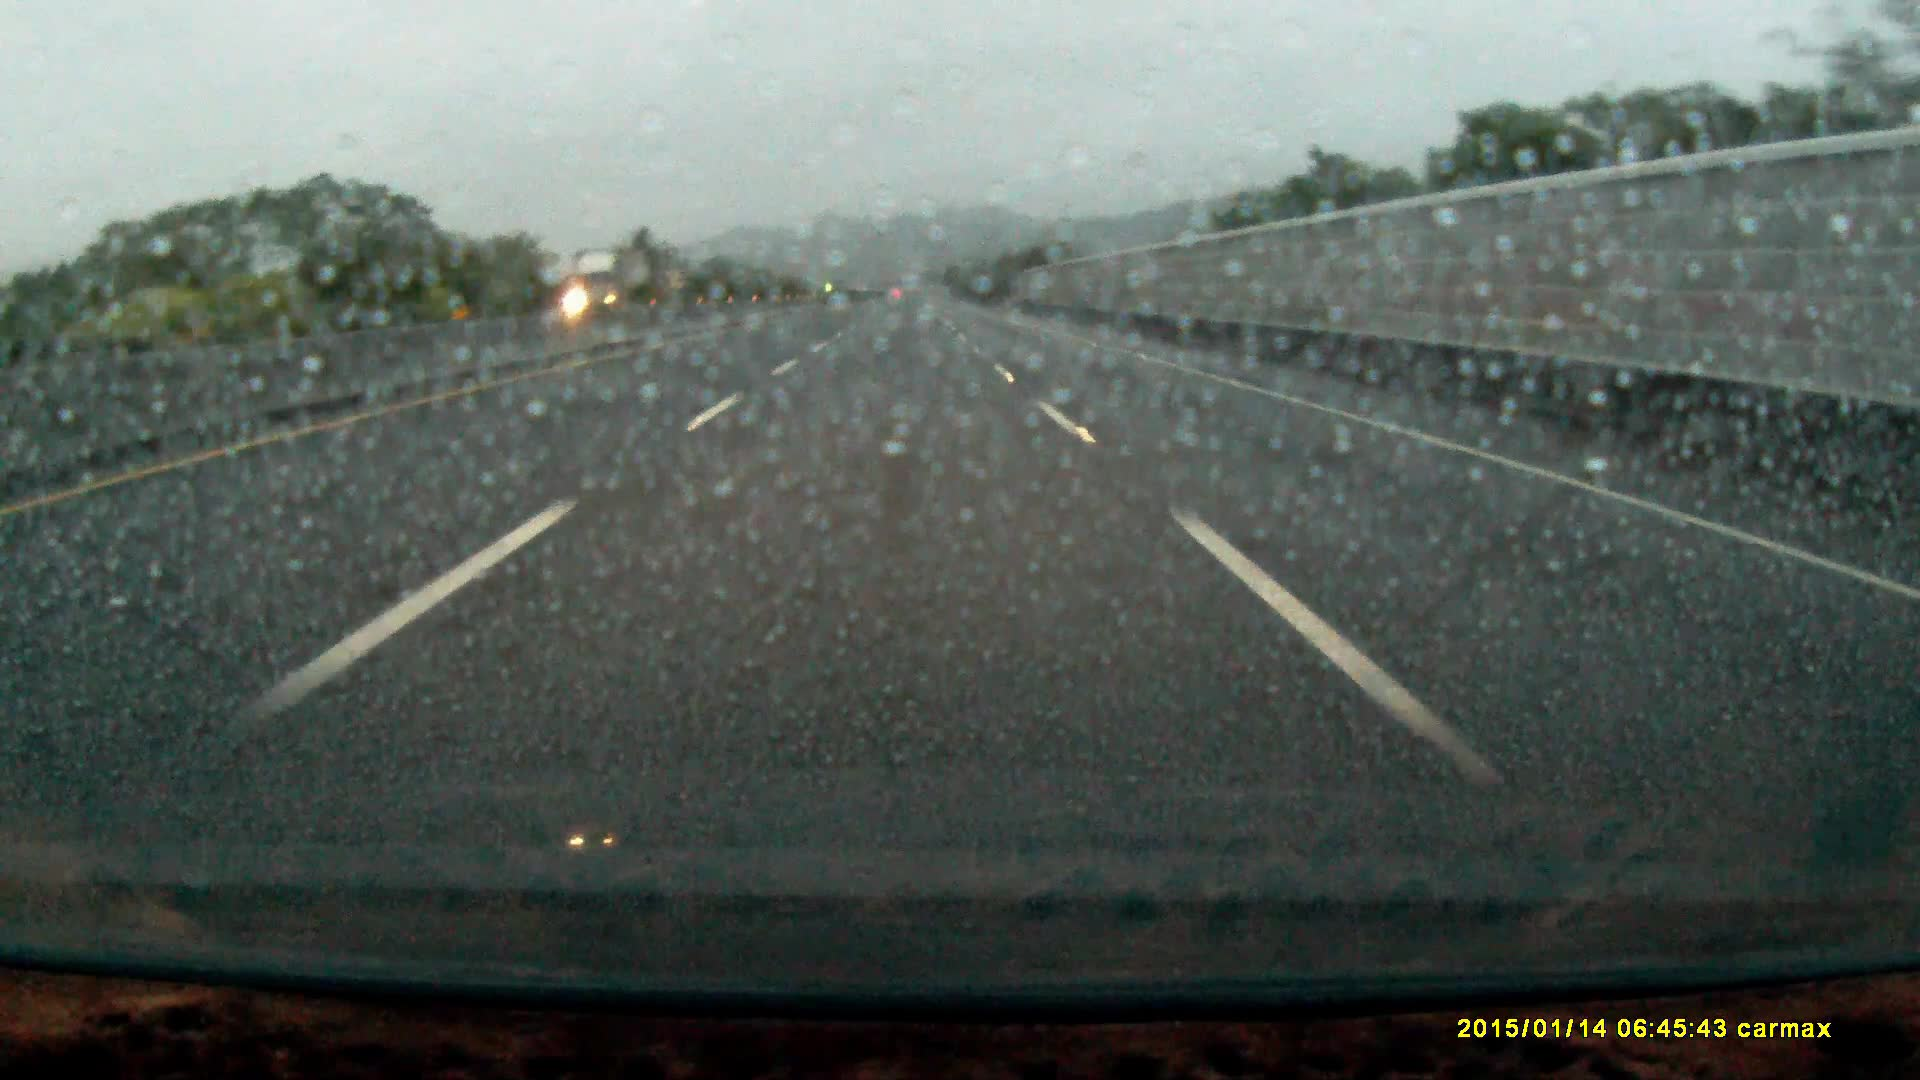vehicle: (563, 256, 655, 318)
